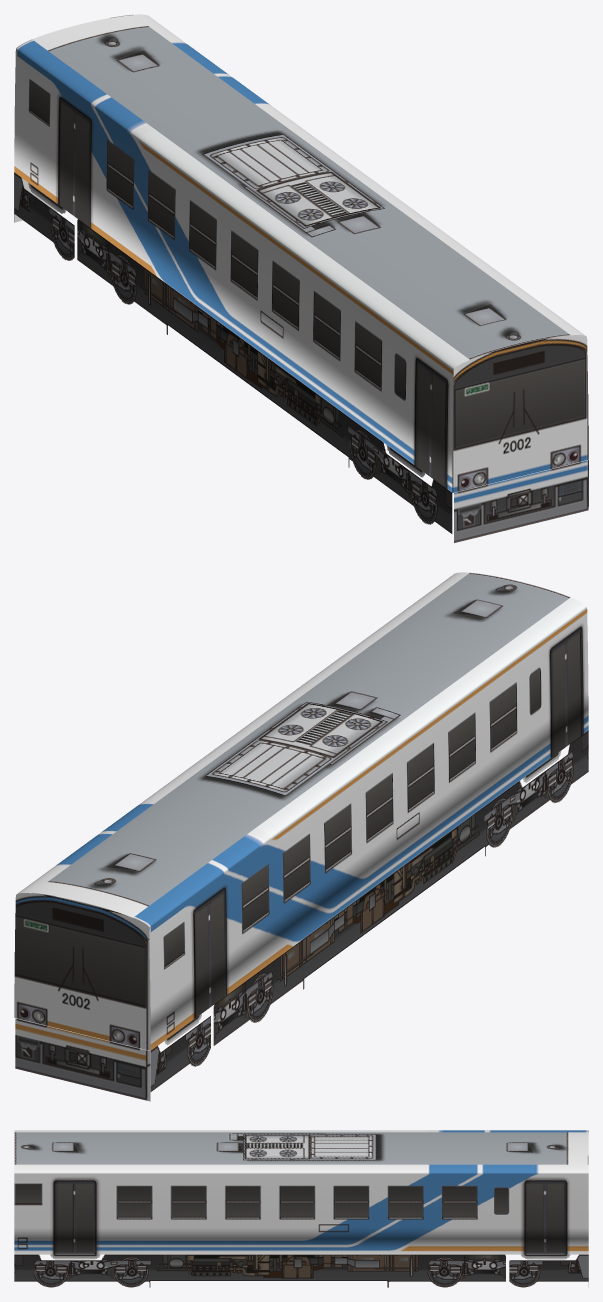
The model's file is car1.glb.
The picture shows the model from 3 angles, top to bottom: view 1: azimuth 30°, elevation 25°; view 2: azimuth 150°, elevation 25°; view 3: azimuth 270°, elevation 25°; orthographic projection. The views are drawn at different scales.
Parts seen in each view (by area): view 1: minamiaso-mt2000-car1; view 2: minamiaso-mt2000-car1; view 3: minamiaso-mt2000-car1.
Part boxes in pixels (x1=…): minamiaso-mt2000-car1: x1=14, y1=14, x2=588, y2=542; minamiaso-mt2000-car1: x1=14, y1=572, x2=588, y2=1101; minamiaso-mt2000-car1: x1=14, y1=1130, x2=588, y2=1287.
Size of the model in its own units: 2.84 by 3.63 by 15.83.
9 materials, 8 textured.
